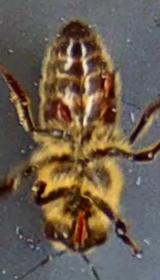varroa_mite: (93, 68, 121, 124), (38, 100, 80, 128)
